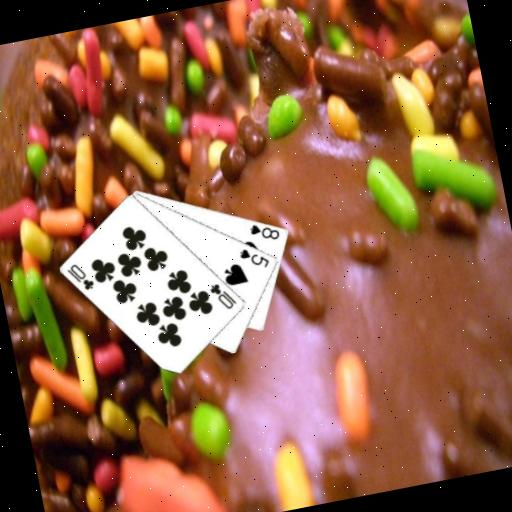10C: (206, 277, 240, 314), (63, 258, 97, 295)
5S: (235, 241, 272, 274)
8S: (247, 217, 283, 246)
